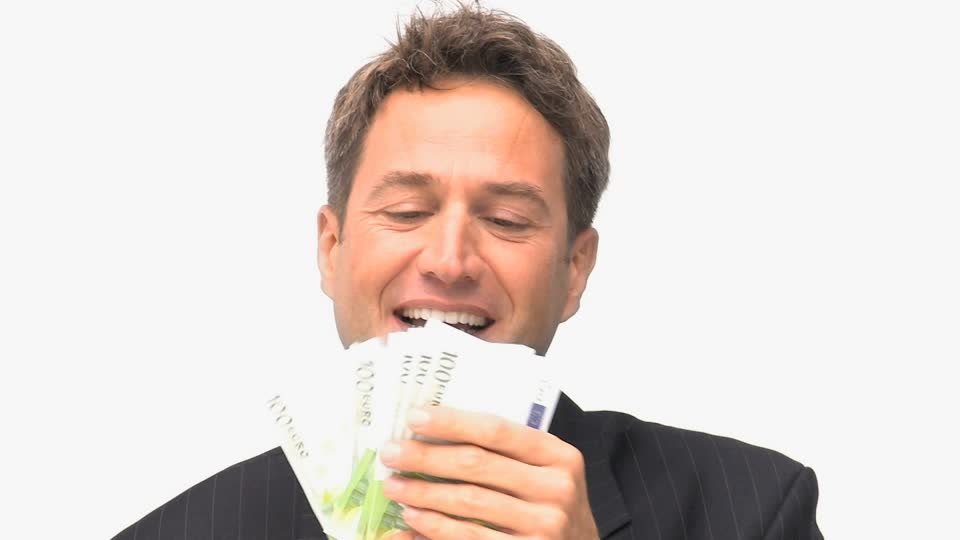billete: (253, 316, 574, 540)
